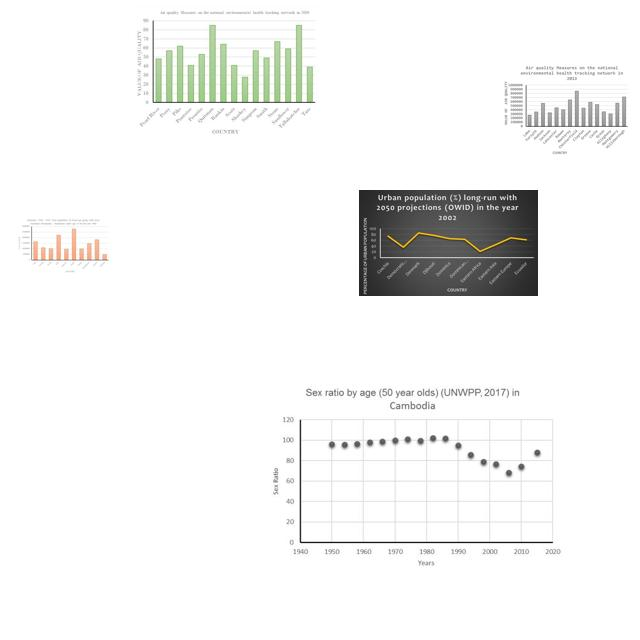Graph: (266, 381, 567, 571), (132, 6, 319, 138), (359, 190, 538, 296), (501, 64, 631, 155), (17, 218, 110, 273)
